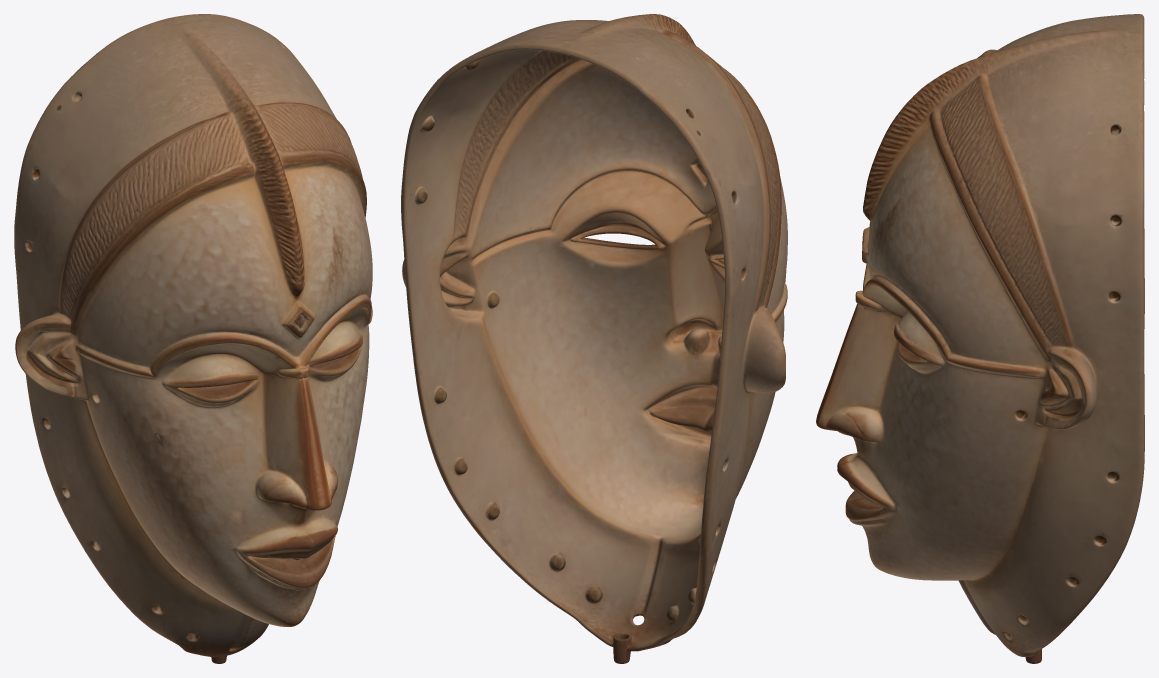
The model's file is dogon2.glb.
3 renders of one model, left to right at view 1: azimuth 30°, elevation 25°; view 2: azimuth 150°, elevation 25°; view 3: azimuth 270°, elevation 25°, orthographic. The views are drawn at different scales.
Visible parts, largest first — view 1: material; view 2: material; view 3: material.
Part boxes in pixels (box(x1,y1,x2,y2)): material: box(14, 14, 372, 663); material: box(401, 14, 787, 663); material: box(816, 14, 1144, 663).
Size of the model in its own units: 0.6689 by 1.09 by 0.5159.
1 material, 1 textured.
